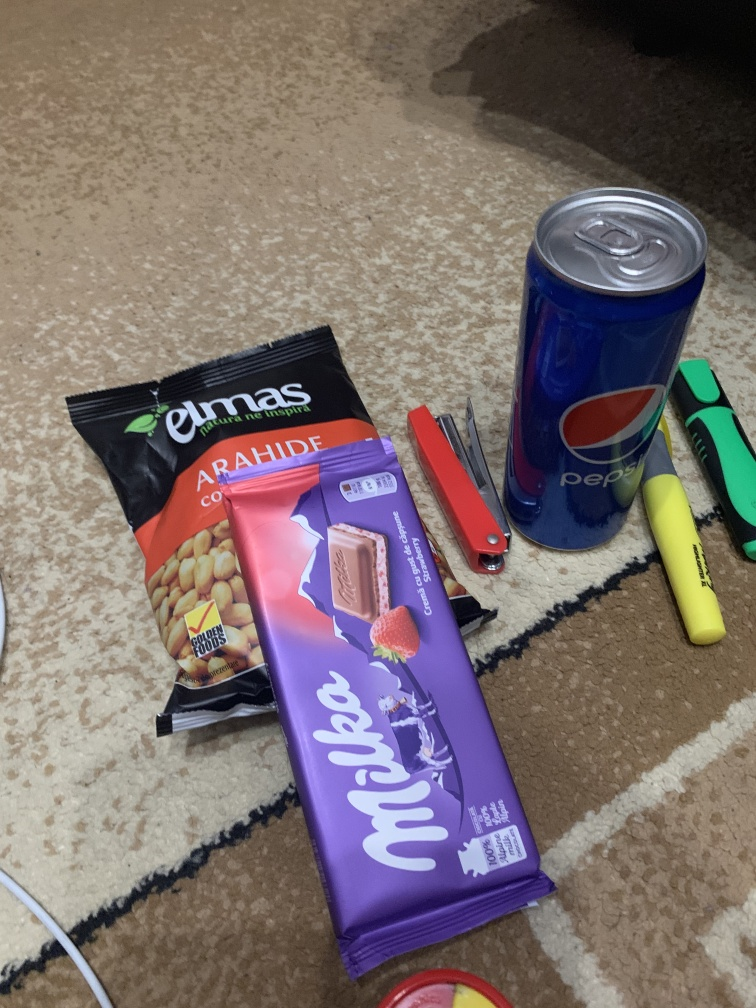milka: (213, 436, 567, 982)
peanuts: (63, 319, 507, 737)
pepsi: (504, 178, 709, 576)
